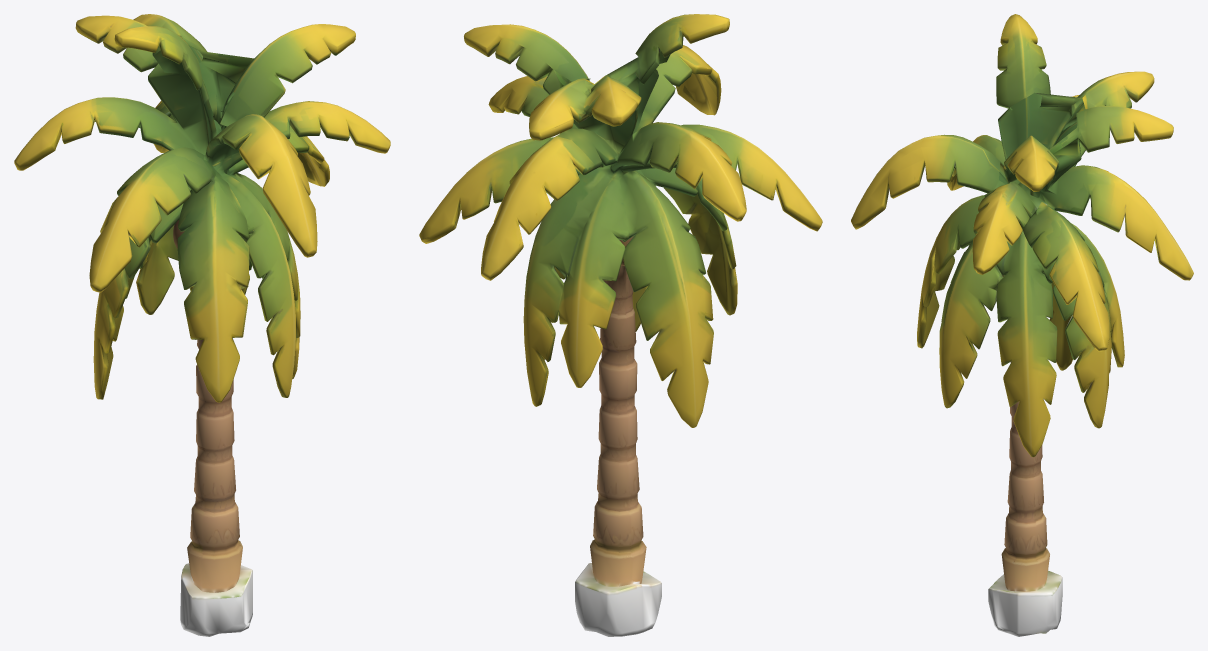
Rendered from palmera.glb.
3 renders of one model, left to right at view 1: azimuth 30°, elevation 25°; view 2: azimuth 150°, elevation 25°; view 3: azimuth 270°, elevation 25°, orthographic. The views are drawn at different scales.
Parts seen in each view (by area): view 1: mesh_rep_0_ori_repair; view 2: mesh_rep_0_ori_repair; view 3: mesh_rep_0_ori_repair.
Part boxes in pixels (x1=…): mesh_rep_0_ori_repair: x1=14, y1=14, x2=390, y2=636; mesh_rep_0_ori_repair: x1=419, y1=14, x2=822, y2=636; mesh_rep_0_ori_repair: x1=851, y1=14, x2=1193, y2=636.
Size of the model in its own units: 0.5197 by 0.969 by 0.534.
1 material, 1 textured.
